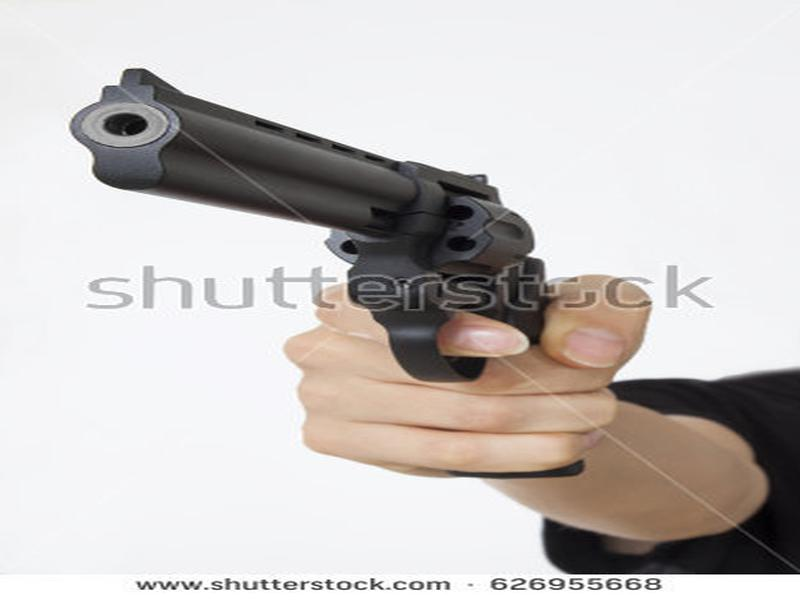Revolver: (61, 48, 557, 384)
